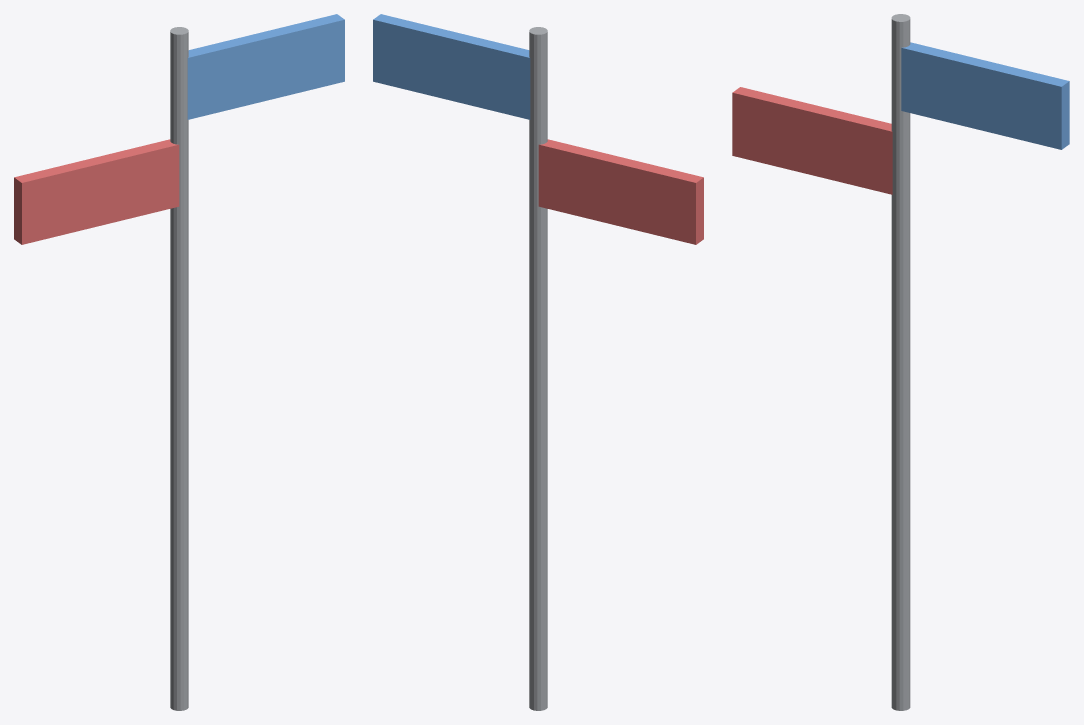
Rendered from pr-street-sign.glb.
3 views of the same model, side by side, from view 1: azimuth 30°, elevation 25°; view 2: azimuth 150°, elevation 25°; view 3: azimuth 330°, elevation 25° (orthographic).
Visible parts, largest first — view 1: pole; view 2: pole; view 3: pole.
Boxes of the visible parts, box(x1,y1,x2,y2) form: pole: box(14, 14, 344, 710); pole: box(373, 14, 703, 710); pole: box(732, 14, 1069, 710).
Bounding box in the file's own units: 1.2 × 2.4 × 0.06.
